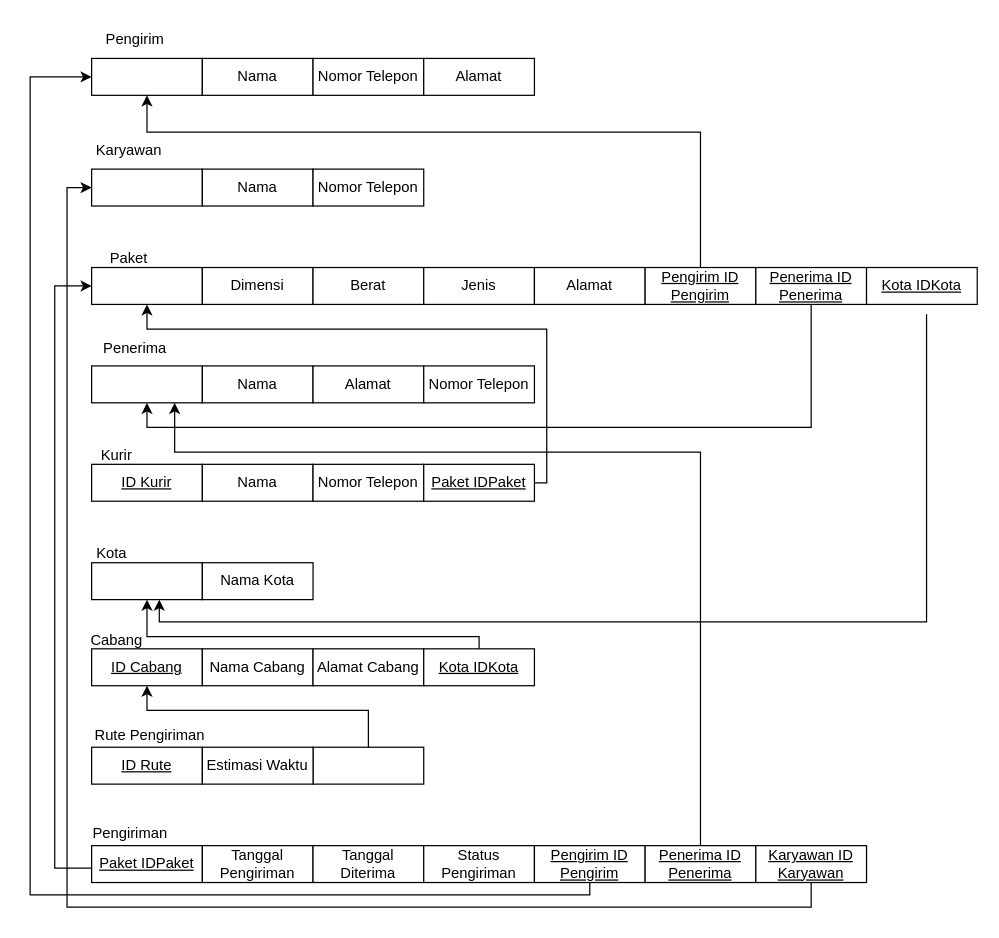
The diagram is 999 pixels wide and 938 high, and some of its shapes have lost their labels. The shapes that lost their labels are listed below. From the top down, each one's box as (x1, y1, x2, y2) in pixels, then its label:
(90, 57, 202, 95): ID Pengirim
(90, 168, 202, 206): ID Karyawan
(90, 266, 202, 304): ID Paket
(90, 365, 202, 403): ID Penerima
(90, 561, 202, 600): ID Kota
(312, 746, 424, 784): Cabang IDCabang
